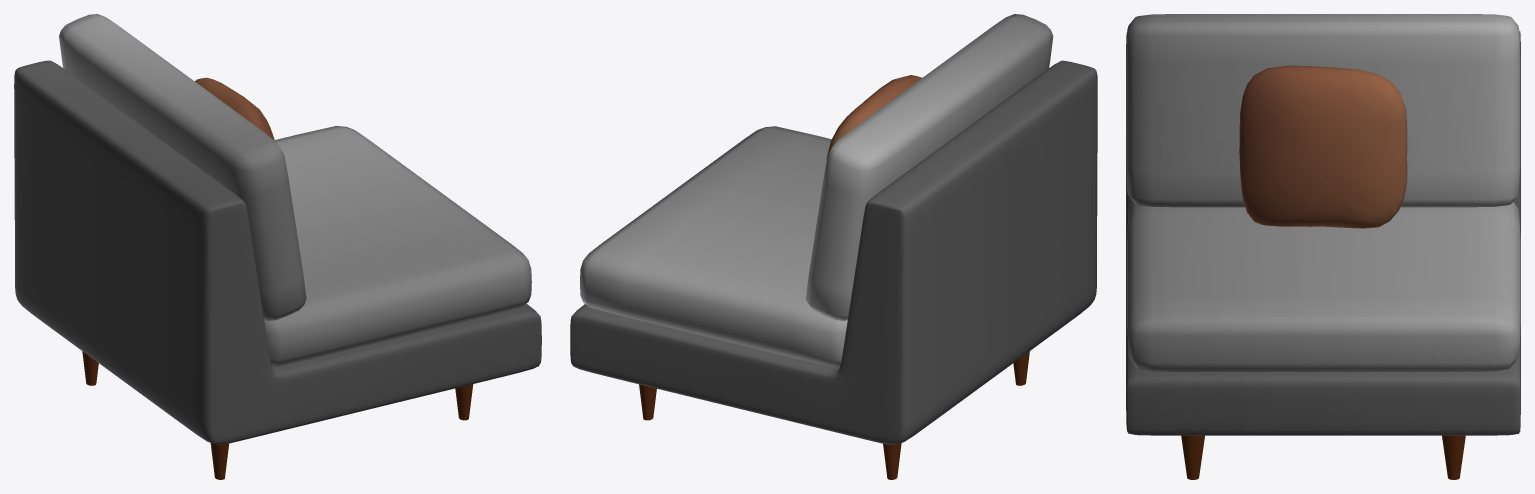
The model's file is Sillon1.obj.
3 renders of one model, left to right at view 1: azimuth 30°, elevation 25°; view 2: azimuth 150°, elevation 25°; view 3: azimuth 270°, elevation 25°, orthographic.
Parts seen in each view (by area): view 1: polySurface38; view 2: polySurface38; view 3: polySurface38.
Boxes of the visible parts, x1,y1,x2,y2 form: polySurface38: (14,14,541,479); polySurface38: (570,14,1097,479); polySurface38: (1126,14,1520,479).
Bounding box in the file's own units: 1.87 × 1.82 × 1.87.
1 material, 1 textured.
